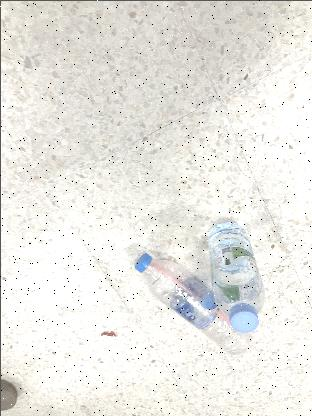Plastic Bottle: (132, 252, 250, 354), (206, 219, 264, 330)
